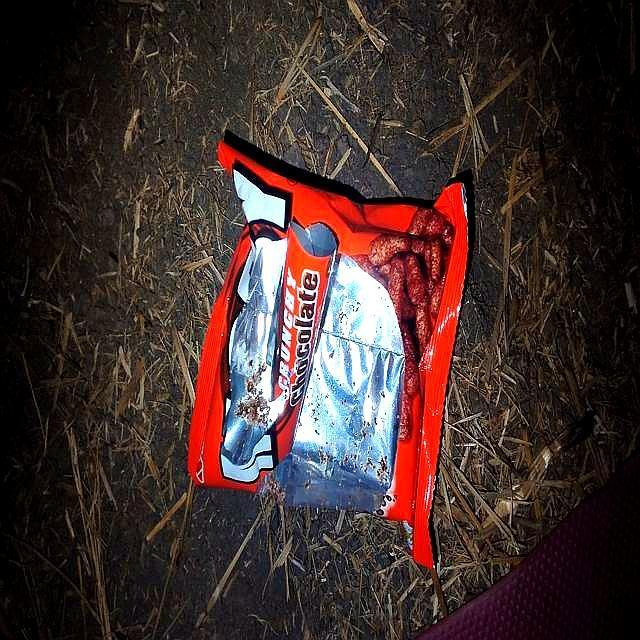Non-biodegradable: (186, 129, 475, 570)
